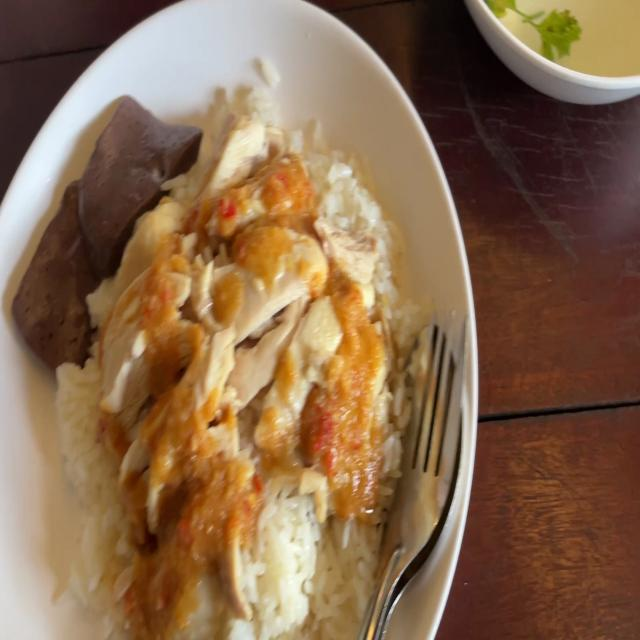chicken_rice: (121, 185, 349, 522)
noodle: (16, 182, 107, 356), (80, 100, 178, 240)
